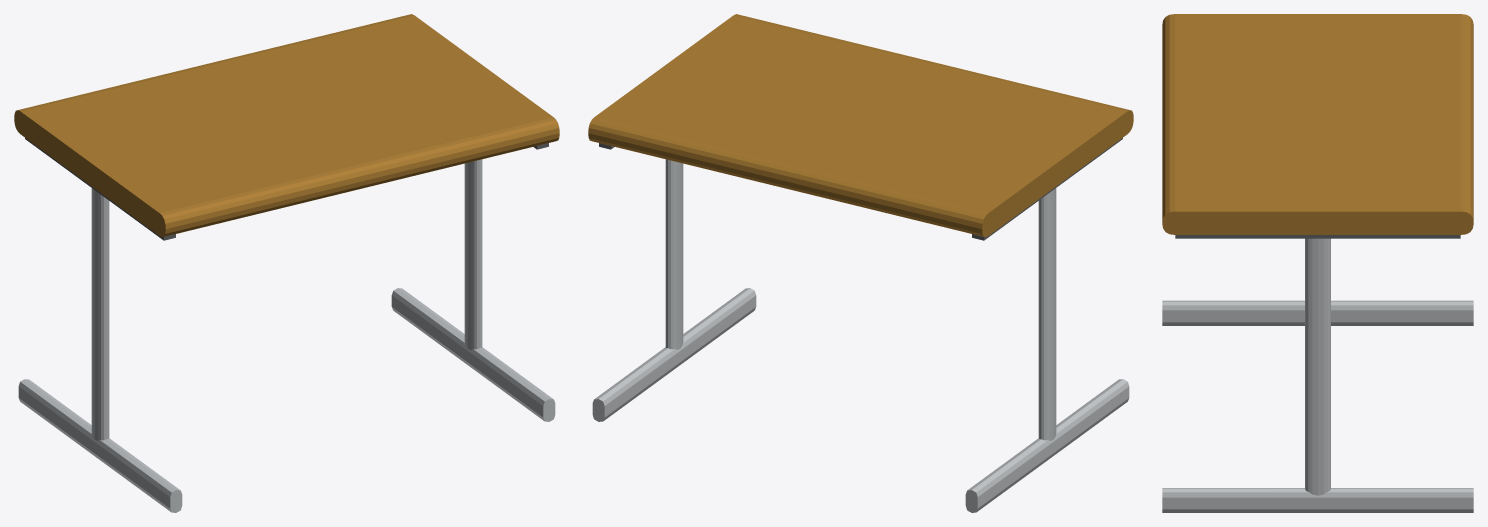
Rendered from table-24x36.glb.
3 renders of one model, left to right at view 1: azimuth 30°, elevation 25°; view 2: azimuth 150°, elevation 25°; view 3: azimuth 270°, elevation 25°, orthographic. The views are drawn at different scales.
Visible parts, largest first — view 1: Mesh_Mesh_head_geo.001_lambert2SG.001; view 2: Mesh_Mesh_head_geo.001_lambert2SG.001; view 3: Mesh_Mesh_head_geo.001_lambert2SG.001.
Boxes of the visible parts, x1,y1,x2,y2 form: Mesh_Mesh_head_geo.001_lambert2SG.001: (14, 14, 559, 512); Mesh_Mesh_head_geo.001_lambert2SG.001: (588, 14, 1133, 512); Mesh_Mesh_head_geo.001_lambert2SG.001: (1162, 14, 1473, 512).
Bounding box in the file's own units: 36 × 26 × 24.
